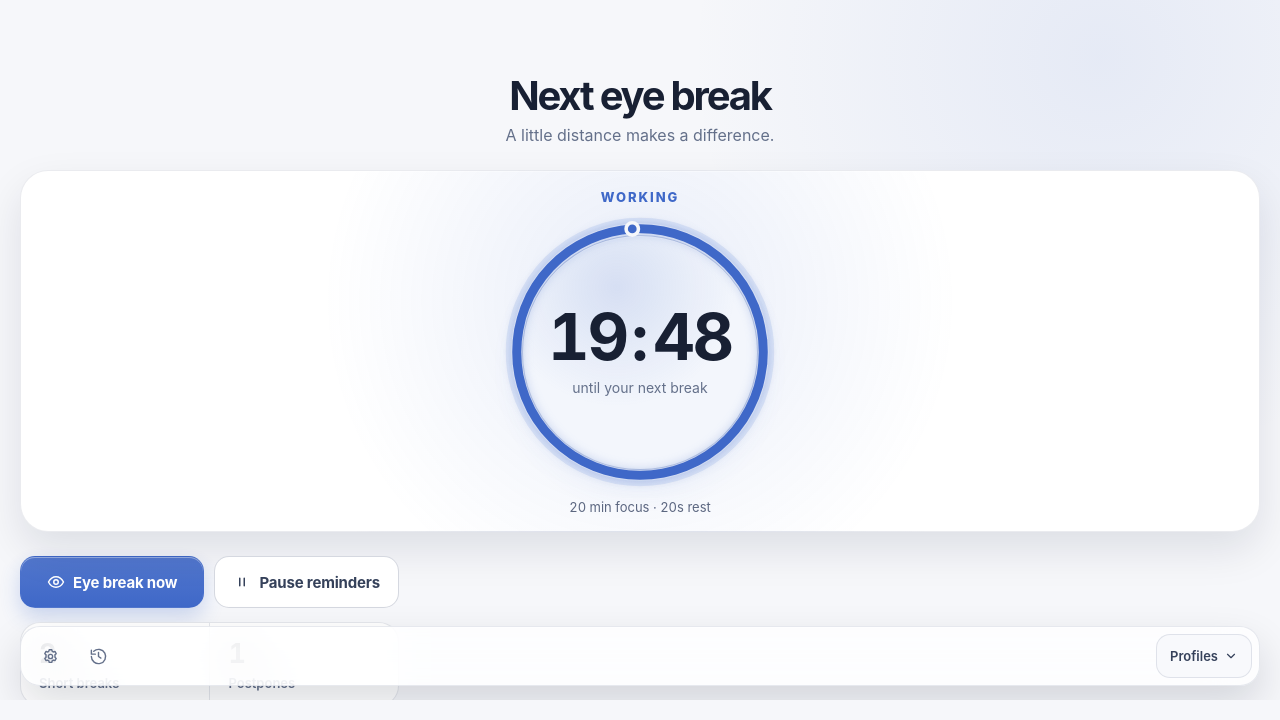
Test: PausIO app experience › opens analytics directly from the iPhone dashboard without restoring the desktop sidebar
The width and height of the screenshot is (1280, 720).
Click the button named "Analytics": (98, 656) [76,634,120,678]
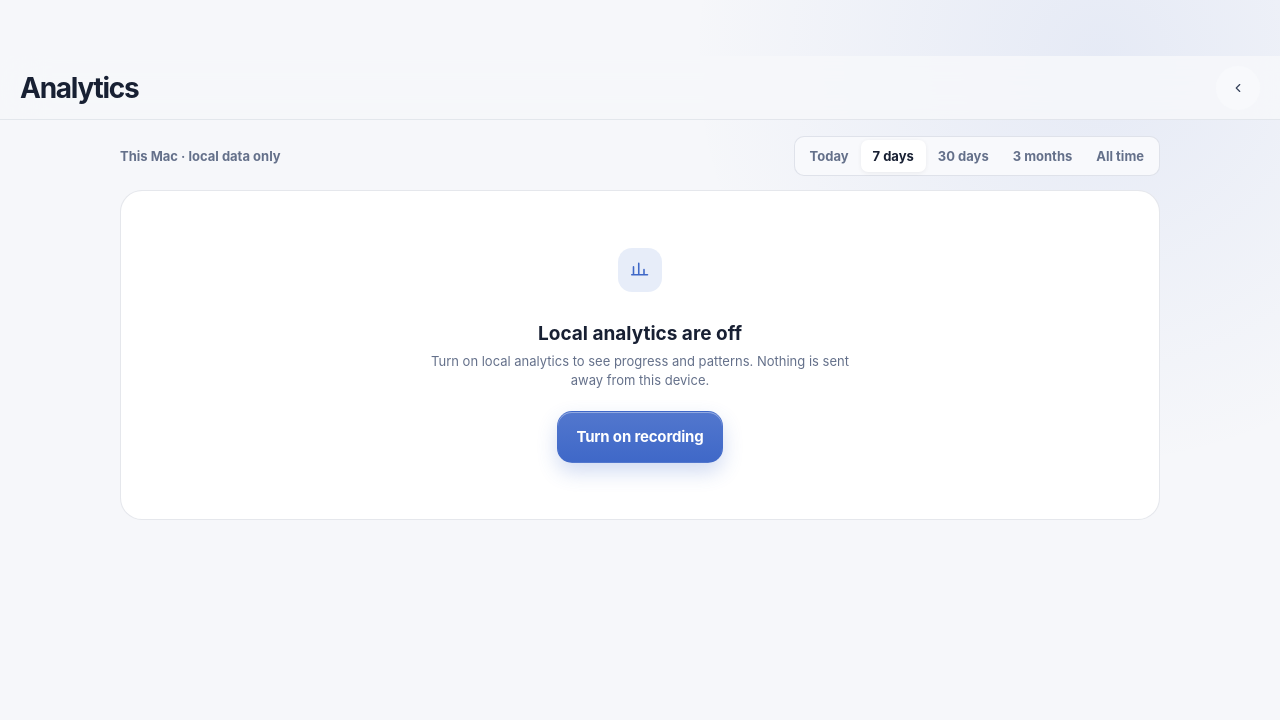
Now the heading "Analytics" is shown, box [20,70,138,104]
